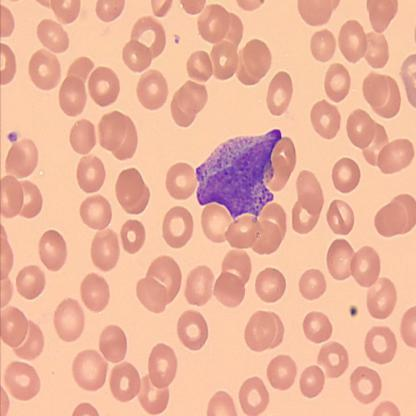Myelocyte: (195, 129, 282, 221)
